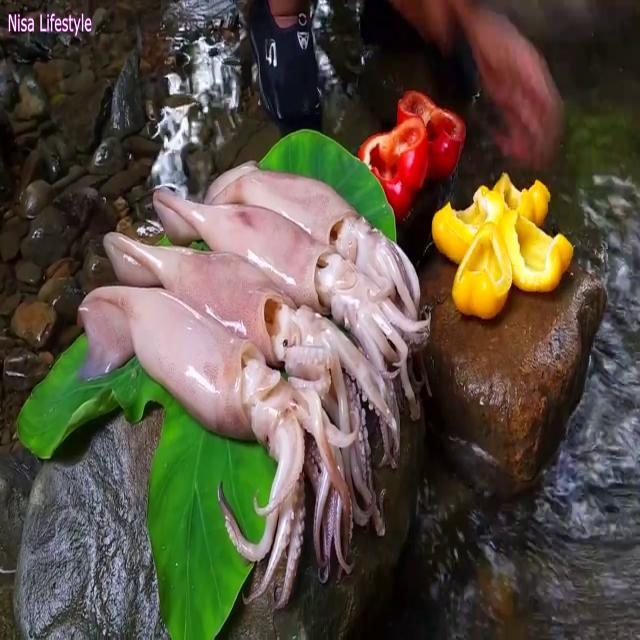squid: (101, 233, 397, 540), (78, 284, 352, 608), (155, 187, 431, 460), (204, 166, 424, 320)
